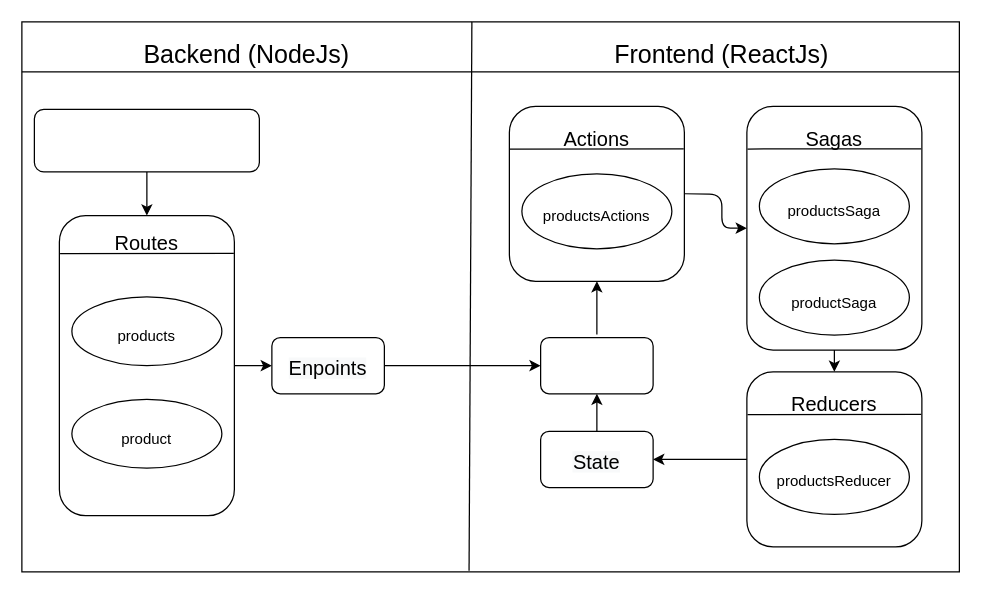
Image size: 983x595. Some labels were removed from this diagram. The shapes that lost their labels are listed below. From the top down, each one's centre as x and y in pixels, then its label:
At (146,140): "Api (MercadoLibre)".
At (596,365): "Web".
